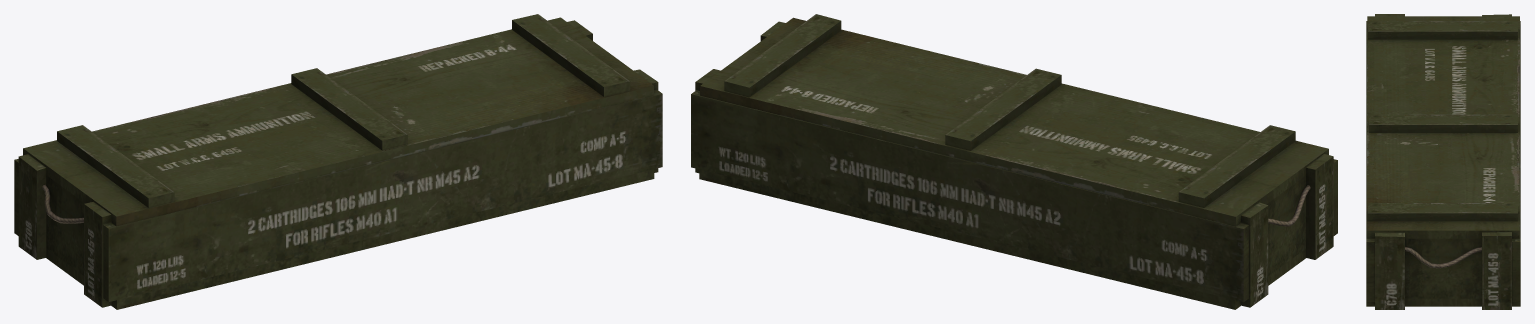
The model's file is ammocrate.glb.
The picture shows the model from 3 angles, left to right: view 1: azimuth 30°, elevation 25°; view 2: azimuth 150°, elevation 25°; view 3: azimuth 270°, elevation 25°; orthographic projection. The views are drawn at different scales.
Parts seen in each view (by area): view 1: supply_crate; view 2: supply_crate; view 3: supply_crate.
Part boxes in pixels (box(x1,y1,x2,y2)): supply_crate: box(14, 14, 662, 309); supply_crate: box(691, 14, 1337, 309); supply_crate: box(1366, 14, 1520, 309).
Bounding box in the file's own units: 0.6325 × 0.1093 × 0.1822.
1 material, 1 textured.
